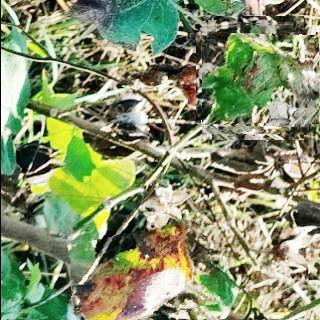blight: (70, 223, 217, 320), (201, 22, 313, 134)
